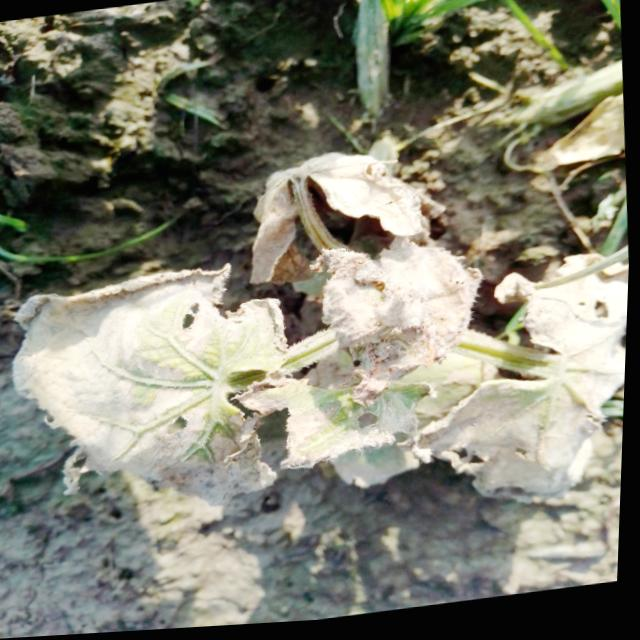Bacterial-Wilt: (0, 122, 636, 563)
